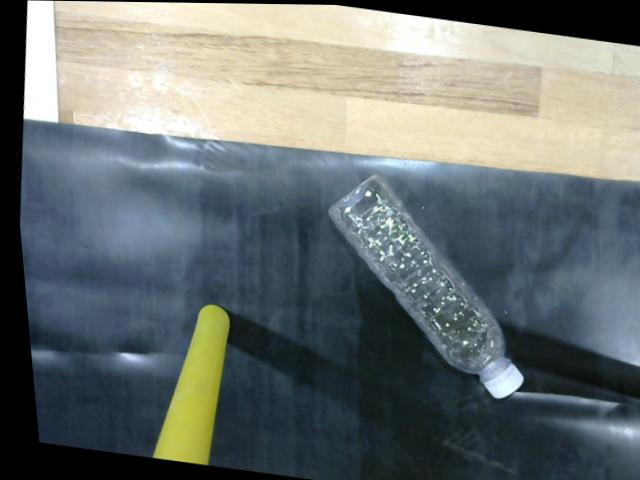bottle: (301, 160, 529, 408)
